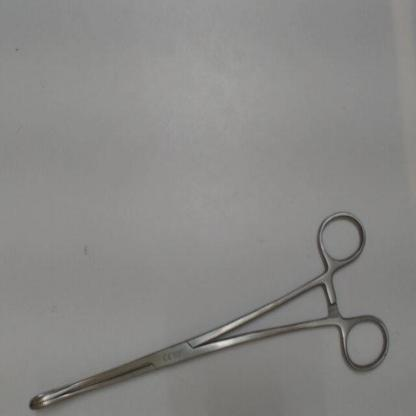Sponge Forceps: (25, 203, 394, 416)
